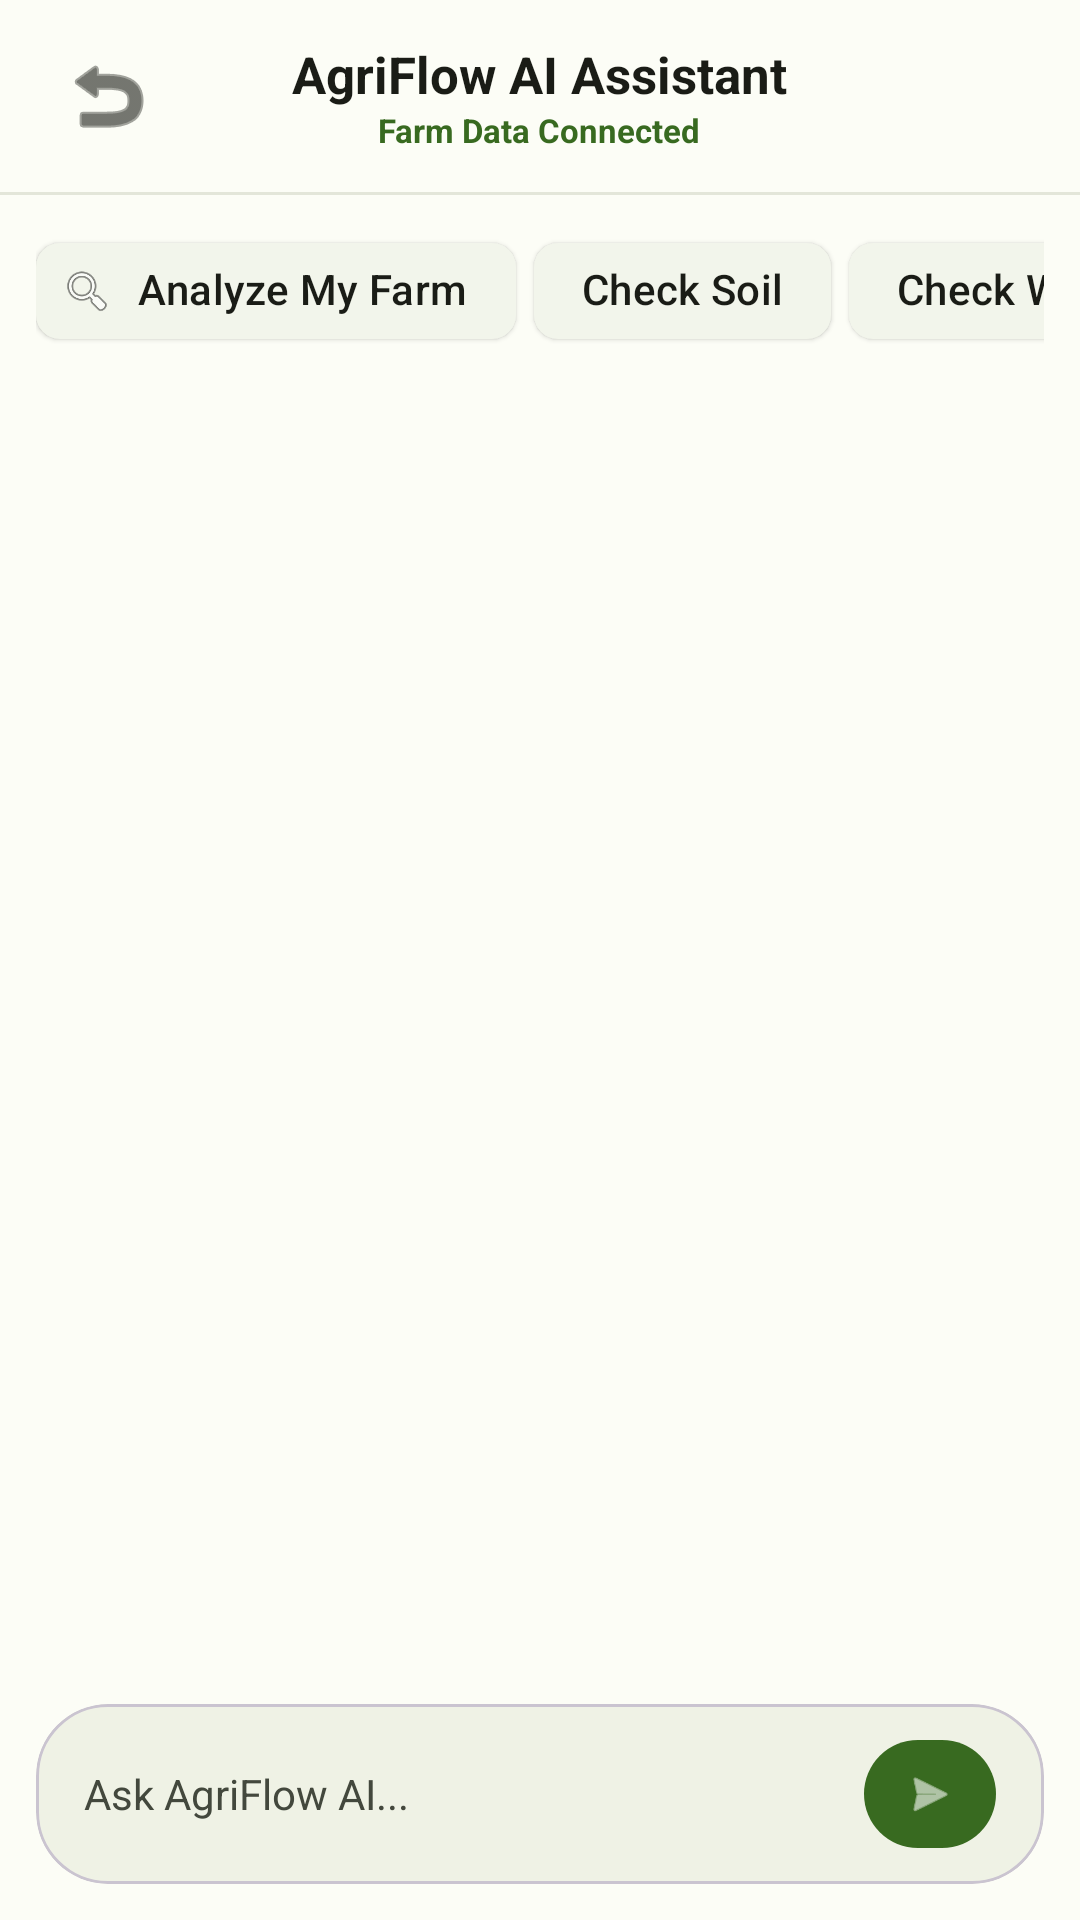

Point at icon controls on the screen. Image size 1080px x 1920px, points as (x=x, y=y).
revert: (x=109, y=96)
send: (x=930, y=1794)
